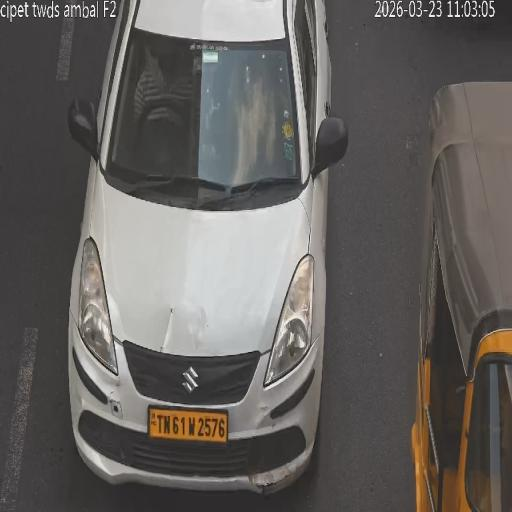person_with_seatbelt: (140, 39, 177, 130)
